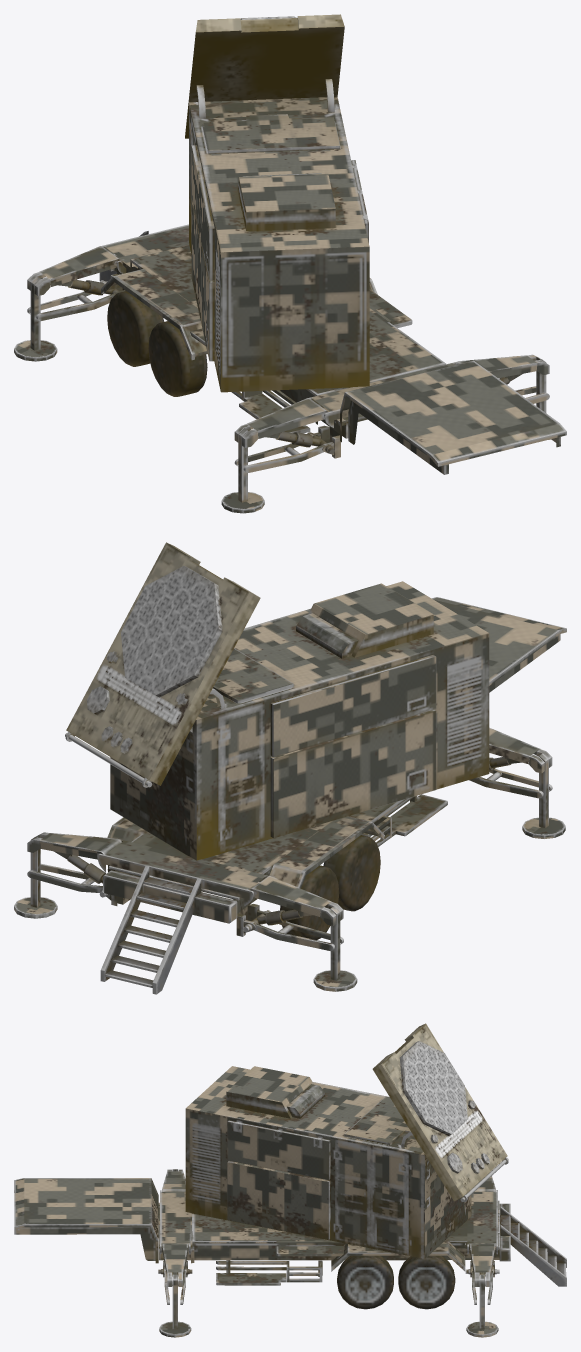
Rendered from ANMQ-53.fbx.
3 views of the same model, one above another, from view 1: azimuth 30°, elevation 25°; view 2: azimuth 150°, elevation 25°; view 3: azimuth 270°, elevation 25° (orthographic). The views are drawn at different scales.
Visible parts, largest first — view 1: Radar_Low, Body_Low, Wheel_Low; view 2: Radar_Low, Body_Low, Wheel_Low; view 3: Radar_Low, Body_Low, Wheel_Low.
Boxes of the visible parts, x1,y1,x2,y2 form: Radar_Low: [185, 14, 369, 392]; Body_Low: [14, 224, 566, 513]; Wheel_Low: [107, 291, 207, 396]; Radar_Low: [65, 542, 489, 860]; Body_Low: [14, 597, 566, 994]; Wheel_Low: [107, 835, 380, 939]; Radar_Low: [185, 1023, 508, 1258]; Body_Low: [14, 1169, 566, 1337]; Wheel_Low: [337, 1255, 455, 1309].
Bounding box in the file's own units: 568 × 534 × 1094.
1 material, 1 textured.
